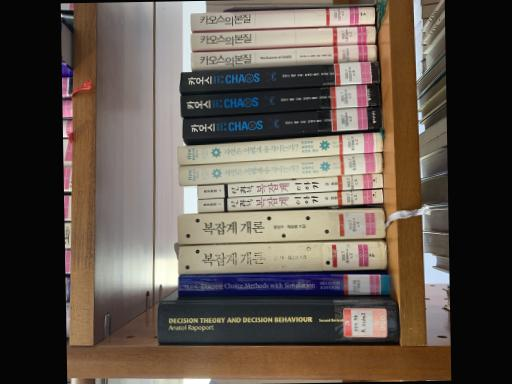book-spine: (159, 303, 398, 344), (178, 239, 388, 273), (178, 209, 385, 243), (178, 152, 383, 185), (182, 105, 382, 138), (181, 82, 381, 115), (178, 132, 384, 164), (179, 61, 379, 91), (198, 172, 383, 198), (191, 25, 375, 51), (190, 44, 377, 69), (178, 274, 389, 296), (197, 188, 383, 212), (190, 6, 374, 30)
